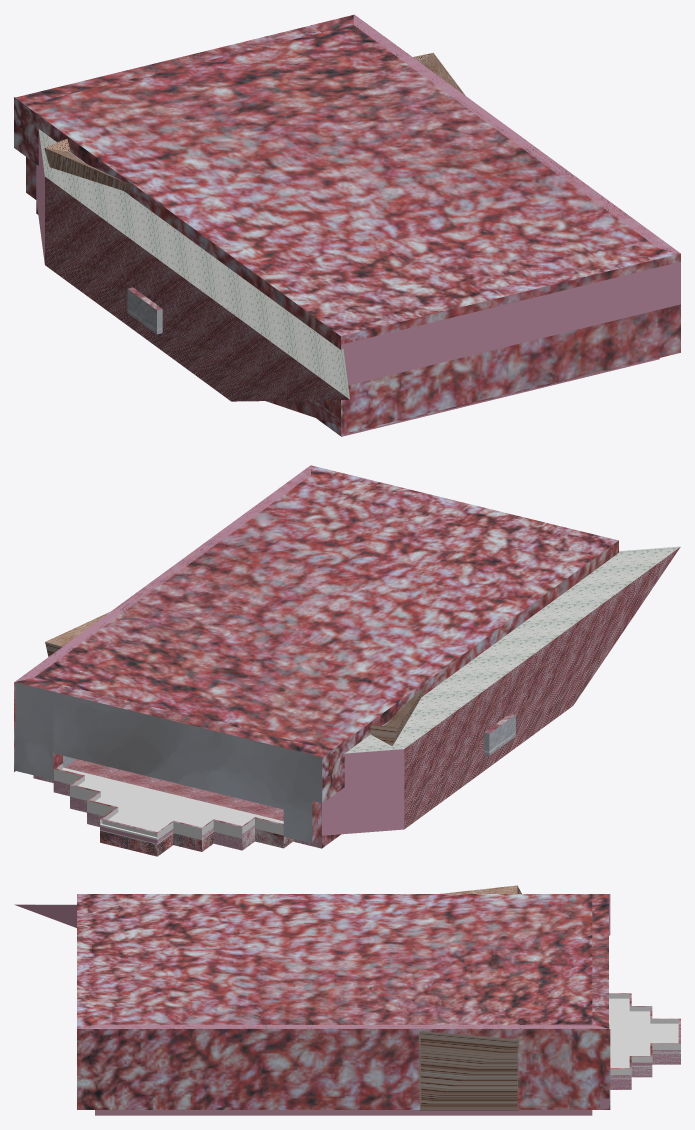
The model's file is level1.glb.
3 views of the same model, one above another, from view 1: azimuth 30°, elevation 25°; view 2: azimuth 150°, elevation 25°; view 3: azimuth 270°, elevation 25° (orthographic). The views are drawn at different scales.
Parts seen in each view (by area): view 1: cube1, Cube.001, ramp_mesh.001; view 2: cube1, floor, Cube.001; view 3: cube1, Cube.001, floor.
Boxes of the visible parts, x1,y1,x2,y2 form: cube1: [14, 14, 680, 436]; Cube.001: [44, 52, 465, 195]; ramp_mesh.001: [266, 400, 340, 426]; cube1: [14, 465, 680, 856]; floor: [62, 732, 515, 839]; Cube.001: [45, 611, 427, 745]; cube1: [14, 894, 680, 1115]; Cube.001: [419, 885, 521, 1110]; floor: [609, 998, 678, 1075].
Bounding box in the file's own units: 362 × 127 × 644.
5 materials, 4 textured.
